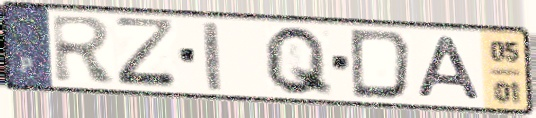A: (415, 34, 485, 103)
D: (348, 27, 415, 103)
I: (199, 19, 225, 94)
Q: (262, 24, 337, 99)
R: (48, 13, 120, 85)
Z: (111, 15, 182, 92)
